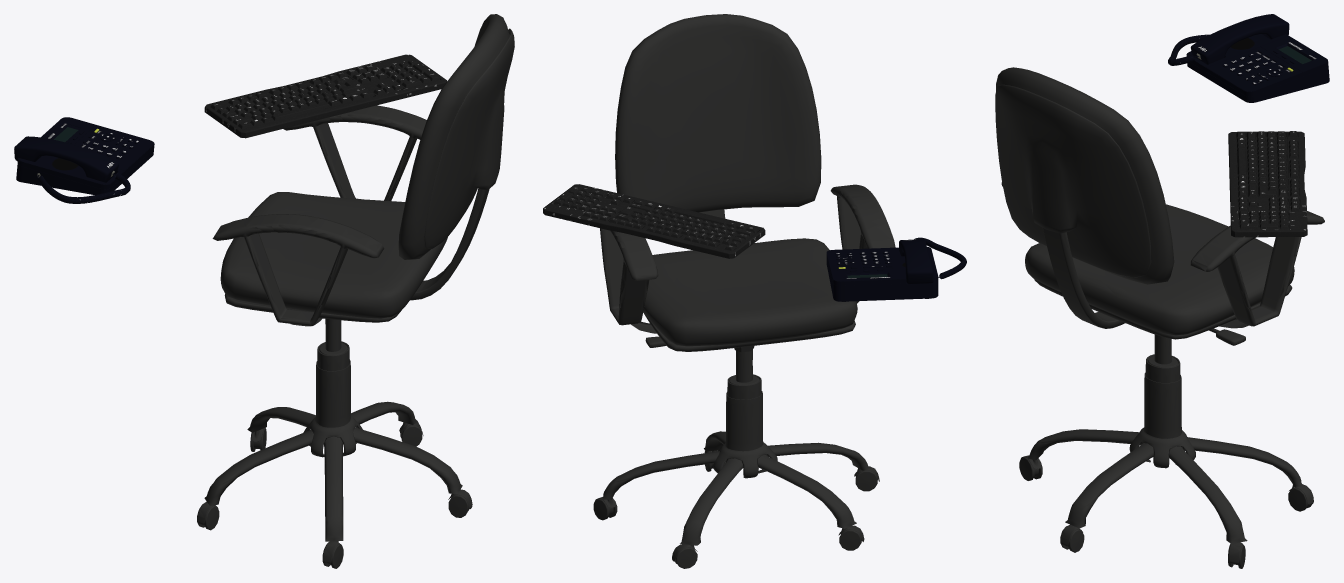
File: postazioniparte4.gltf
The picture shows the model from 3 angles, left to right: view 1: azimuth 30°, elevation 25°; view 2: azimuth 150°, elevation 25°; view 3: azimuth 270°, elevation 25°; orthographic projection. The views are drawn at different scales.
Parts seen in each view (by area): view 1: Bianco Sedia, BIANCO TASTIERA, Bianco Telefono; view 2: Bianco Sedia, BIANCO TASTIERA, Bianco Telefono; view 3: Bianco Sedia, Bianco Telefono, BIANCO TASTIERA.
Boxes of the visible parts, x1,y1,x2,y2 form: Bianco Sedia: (197,14,514,568); BIANCO TASTIERA: (204,54,447,138); Bianco Telefono: (14,117,154,203); Bianco Sedia: (593,14,895,568); BIANCO TASTIERA: (543,184,765,258); Bianco Telefono: (826,237,966,301); Bianco Sedia: (995,67,1324,568); Bianco Telefono: (1168,14,1329,102); BIANCO TASTIERA: (1228,131,1307,237).
Bounding box in the file's own units: 0.8995 × 1.01 × 0.6384.
4 materials, 3 textured.
